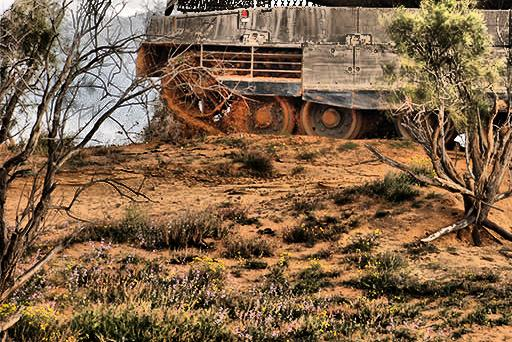tanks: (137, 1, 423, 139), (481, 1, 512, 55)
